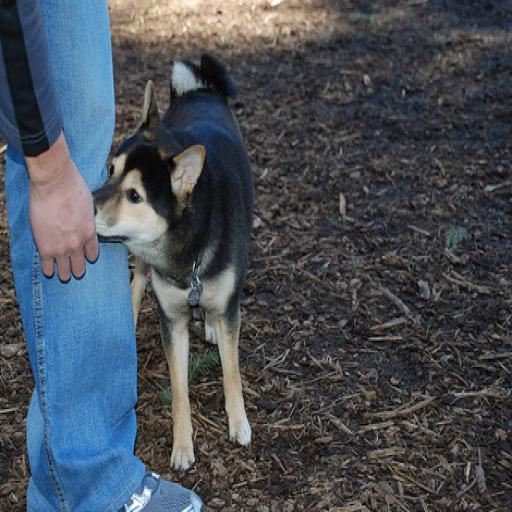dog_face: (93, 103, 197, 266)
